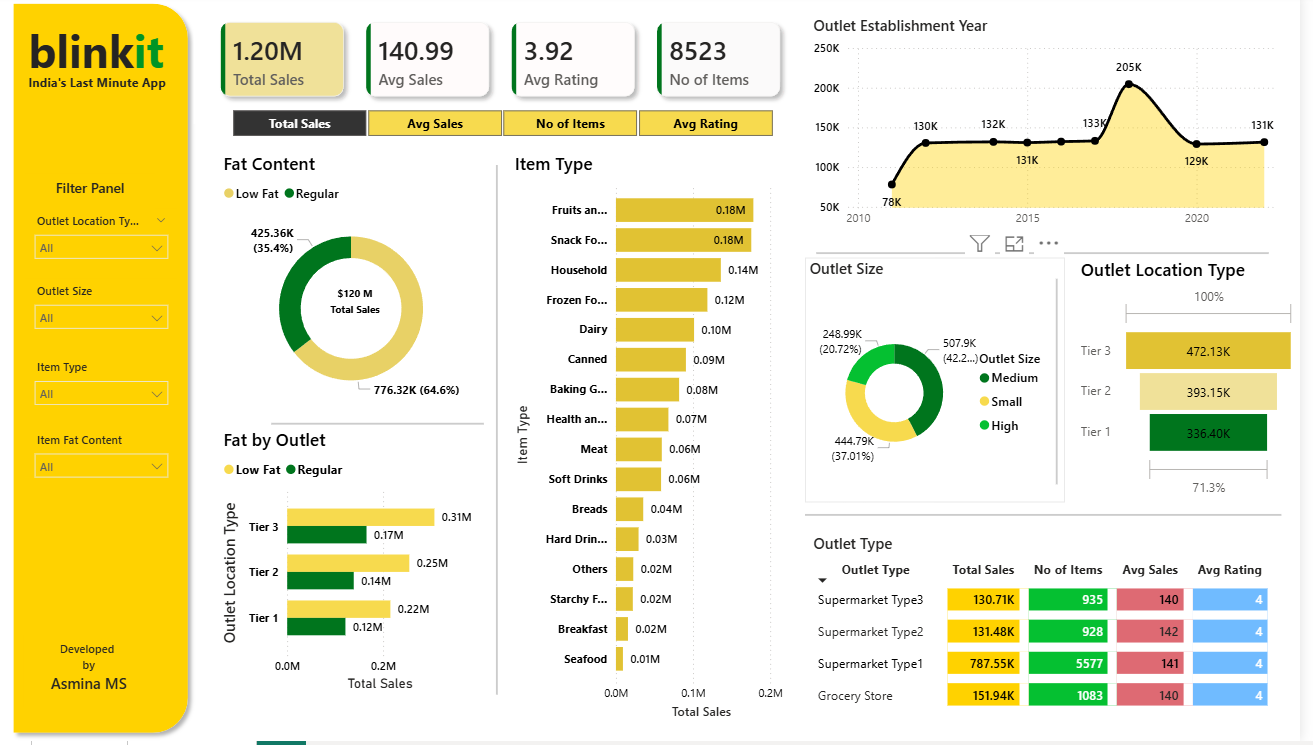

The page's visual inventory and layout, read from the dashboard file:
{"tool":"powerbi","page":{"name":"Dash Board","canvas":[1400,800],"ordinal":2},"visuals":[{"type":"shape","box":[10.7,0,205.1,800.3],"z":0},{"type":"textbox","box":[30.4,21.3,164.2,74.5],"z":1000},{"type":"textbox","box":[30.4,79.1,164.2,74.5],"z":2000},{"type":"cardVisual","fields":{"Data":["Table1.Total sales","Table1.Average Sales","Table1.Average Rating","Table1.Number of Items"]},"box":[215.9,0,678.1,144.4],"z":3000},{"type":"donutChart","title":"Fat Content","fields":{"Y":["Table1.Total Sales"],"Category":["Table1.Item Fat Content"]},"box":[240.2,158.1,293.4,291.9],"z":4000},{"type":"slicer","fields":{"Values":["Metrics.Metrics"]},"box":[240.2,117.1,627.9,41.1],"z":5000},{"type":"textbox","box":[352.5,304.3,67,45.6],"z":6000},{"type":"clusteredBarChart","title":"Fat by Outlet","fields":{"Y":["Table1.Total Sales"],"Category":["Table1.Outlet Location Type"],"Series":["Table1.Item Fat Content"]},"box":[240.2,463.7,291.9,287.4],"z":7000},{"type":"shape","box":[868.2,541.3,510.9,31.9],"z":8000},{"type":"shape","box":[532.1,158.1,19.8,593],"z":9000},{"type":"clusteredBarChart","title":"Item Type","fields":{"Y":["Table1.Total Sales"],"Category":["Table1.Item Type"]},"box":[551.9,158.1,316.2,623.4],"z":10000},{"type":"shape","box":[880.7,272.1,485.3,9.4],"z":11000},{"type":"donutChart","title":"Outlet Size","fields":{"Category":["Table1.Outlet Size"],"Y":["Table1.TOTAL SALES"]},"box":[868.2,281.3,279.8,263],"z":12000},{"type":"funnel","title":"Outlet Location Type","fields":{"Y":["Table1.TOTAL SALES"],"Category":["Table1.Outlet Location Type"]},"box":[1160.1,281.3,240.2,263],"z":13000},{"type":"pivotTable","title":"Outlet Type","fields":{"Values":["Table1.TOTAL SALES","Table1.NO OF ITEMS","Table1.AVG SALES","Table1.AVG RATING"],"Rows":["Table1.Outlet Type"]},"box":[872.7,576.4,512.1,223.9],"z":14000},{"type":"shape","box":[1128.2,304.1,19.8,220.5],"z":15000},{"type":"shape","box":[296.5,454.6,228.1,10.6],"z":16000},{"type":"slicer","fields":{"Values":["Table1.Outlet Location Type"]},"box":[32.2,229.2,163.5,53.6],"z":17000},{"type":"slicer","fields":{"Values":["Table1.Item Fat Content"]},"box":[32.2,463.8,163.5,53.6],"z":18000},{"type":"slicer","fields":{"Values":["Table1.Outlet Size"]},"box":[32.2,304.3,163.5,53.6],"z":19000},{"type":"textbox","box":[32.2,191.7,139.4,37.5],"z":20000},{"type":"textbox","box":[30.8,686.3,139.4,76.4],"z":21000},{"type":"lineChart","title":"Outlet Establishment Year","fields":{"Y":["Table1.Total Sales"],"Category":["Table1.Outlet Establishment Year"]},"box":[872.7,21.4,506.7,235.9],"z":22000},{"type":"slicer","fields":{"Values":["Table1.Item Type"]},"box":[32.2,386.1,163.5,53.6],"z":23000}]}

Visuals, with their boxes in screenshot pixels (x1, y1, x2, y2), scaled from the page's 1400x800 canvas onto the 1313x745 screenshot:
shape: {"x1": 10, "y1": 0, "x2": 202, "y2": 744}
textbox: {"x1": 29, "y1": 20, "x2": 183, "y2": 89}
textbox: {"x1": 29, "y1": 74, "x2": 183, "y2": 143}
cardVisual - Table1.Total sales x Table1.Average Sales: {"x1": 202, "y1": 0, "x2": 838, "y2": 134}
"Fat Content" donutChart: {"x1": 225, "y1": 147, "x2": 500, "y2": 419}
slicer - Metrics.Metrics: {"x1": 225, "y1": 109, "x2": 814, "y2": 147}
textbox: {"x1": 331, "y1": 283, "x2": 393, "y2": 326}
"Fat by Outlet" clusteredBarChart: {"x1": 225, "y1": 432, "x2": 499, "y2": 699}
shape: {"x1": 814, "y1": 504, "x2": 1293, "y2": 534}
shape: {"x1": 499, "y1": 147, "x2": 518, "y2": 699}
"Item Type" clusteredBarChart: {"x1": 518, "y1": 147, "x2": 814, "y2": 728}
shape: {"x1": 826, "y1": 253, "x2": 1281, "y2": 262}
"Outlet Size" donutChart: {"x1": 814, "y1": 262, "x2": 1077, "y2": 507}
"Outlet Location Type" funnel: {"x1": 1088, "y1": 262, "x2": 1312, "y2": 507}
"Outlet Type" pivotTable: {"x1": 818, "y1": 537, "x2": 1299, "y2": 744}
shape: {"x1": 1058, "y1": 283, "x2": 1077, "y2": 489}
shape: {"x1": 278, "y1": 423, "x2": 492, "y2": 433}
slicer - Table1.Outlet Location Type: {"x1": 30, "y1": 213, "x2": 184, "y2": 263}
slicer - Table1.Item Fat Content: {"x1": 30, "y1": 432, "x2": 184, "y2": 482}
slicer - Table1.Outlet Size: {"x1": 30, "y1": 283, "x2": 184, "y2": 333}
textbox: {"x1": 30, "y1": 179, "x2": 161, "y2": 213}
textbox: {"x1": 29, "y1": 639, "x2": 160, "y2": 710}
"Outlet Establishment Year" lineChart: {"x1": 818, "y1": 20, "x2": 1294, "y2": 240}
slicer - Table1.Item Type: {"x1": 30, "y1": 360, "x2": 184, "y2": 409}
